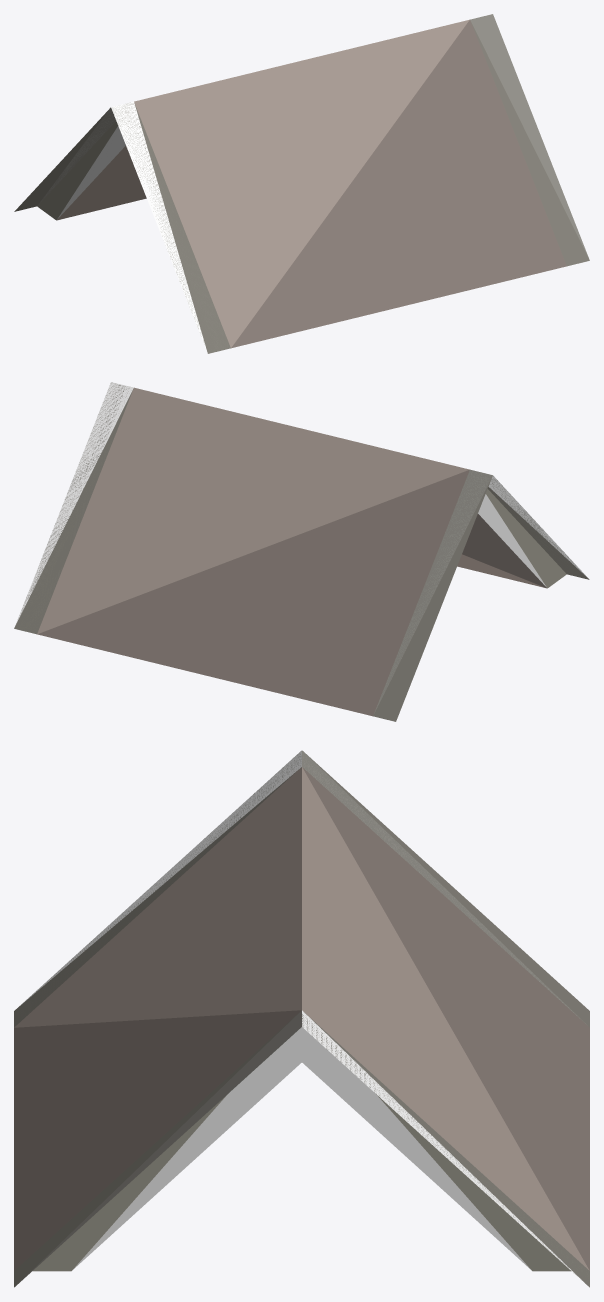
File: roof-metal-type-a.obj
3 renders of one model, top to bottom at view 1: azimuth 30°, elevation 25°; view 2: azimuth 150°, elevation 25°; view 3: azimuth 270°, elevation 25°, orthographic. The views are drawn at different scales.
Size of the model in its own units: 1.14 by 0.5 by 1.
